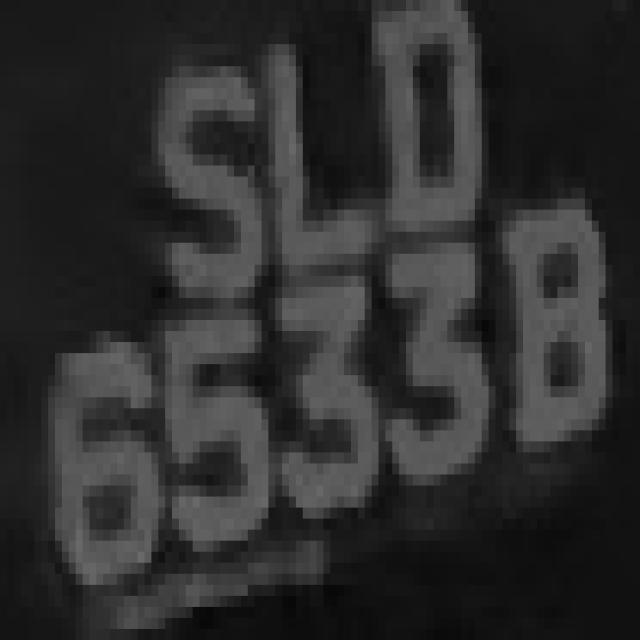3: (386, 176, 488, 518), (276, 232, 378, 518)
5: (165, 254, 282, 574)
6: (28, 309, 158, 596)
B: (502, 188, 620, 486)
D: (372, 11, 474, 221)
L: (254, 44, 378, 287)
S: (123, 22, 254, 309)
